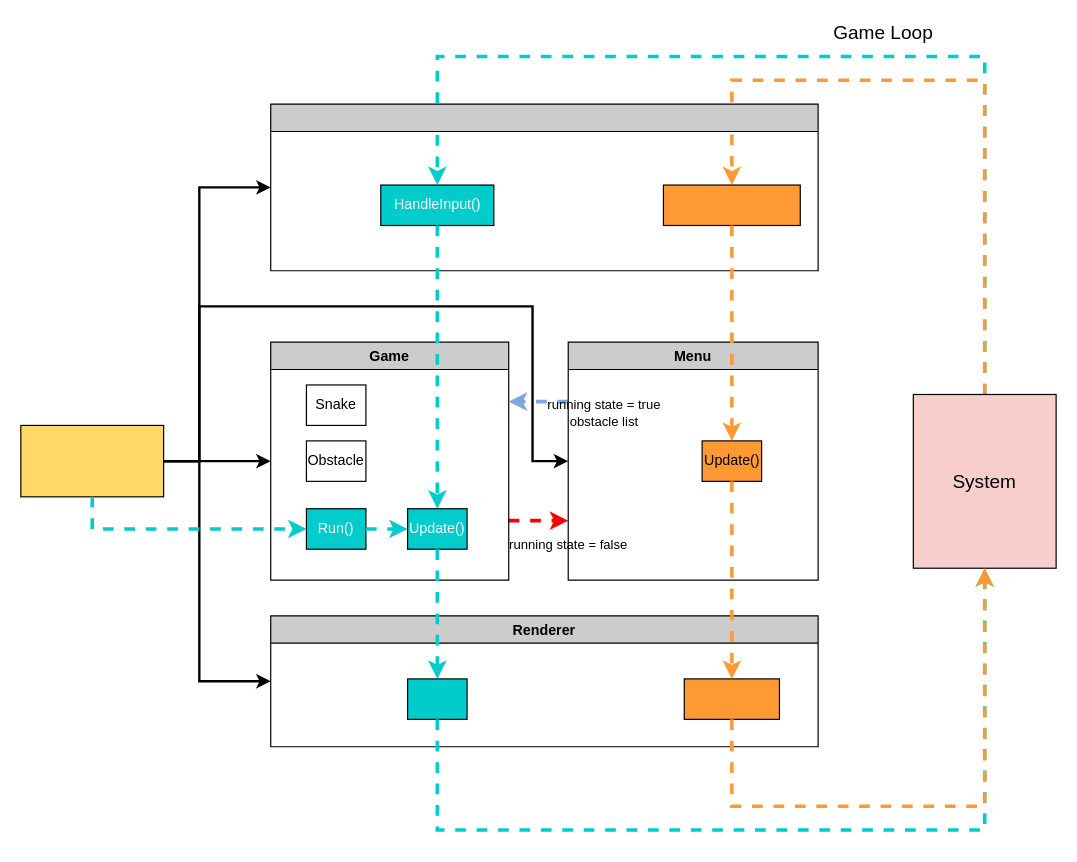
This 1077x862 diagram has some shape labels left out. Each missing label, with the box of its shape:
Controller: (270, 103, 818, 271)
HandleMenuInput(): (662, 184, 800, 226)
main: (20, 424, 164, 497)
Render(): (406, 678, 467, 719)
RenderMenu(): (683, 678, 779, 719)
